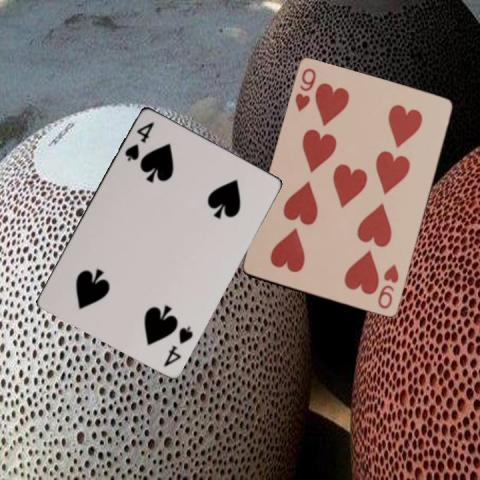4s: (160, 323, 195, 368), (122, 118, 155, 162)
9h: (374, 261, 400, 311), (292, 65, 318, 114)
